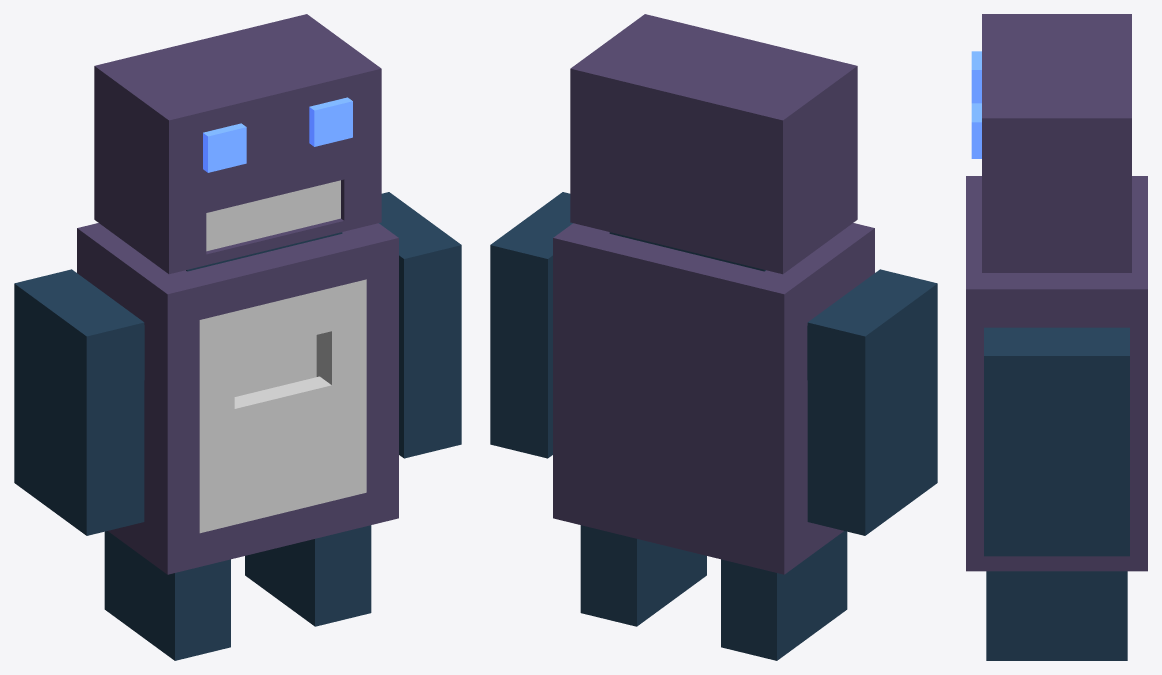
The model's file is SellBox.fbx.
The picture shows the model from 3 angles, left to right: view 1: azimuth 30°, elevation 25°; view 2: azimuth 150°, elevation 25°; view 3: azimuth 270°, elevation 25°; orthographic projection.
Parts seen in each view (by area): view 1: Cube; view 2: Cube; view 3: Cube.
Part boxes in pixels (x1=…): Cube: x1=14, y1=14, x2=461, y2=660; Cube: x1=490, y1=14, x2=937, y2=660; Cube: x1=966, y1=14, x2=1147, y2=660.
Bounding box in the file's own units: 394 × 546 × 165.
